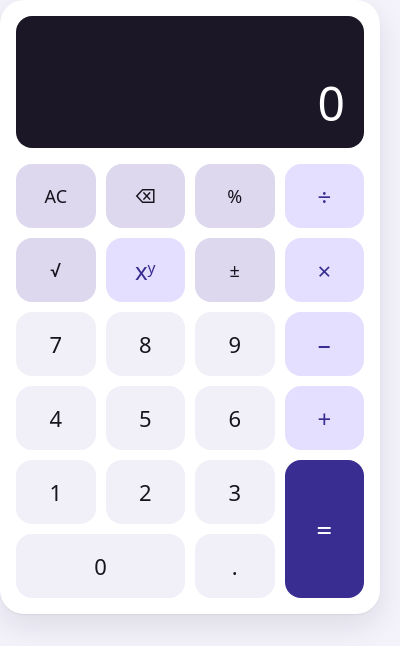
Test: <Calculator /> › evaluates an expression through the API
Click the button "1" at (56, 492), box [16,460,96,524]
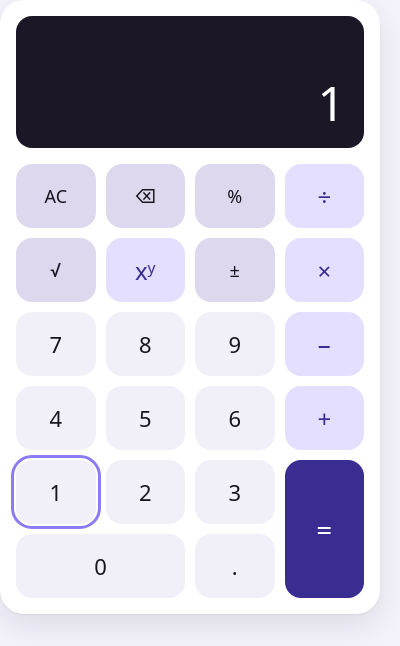
Click the button "2" at (145, 492), box [106,460,185,524]
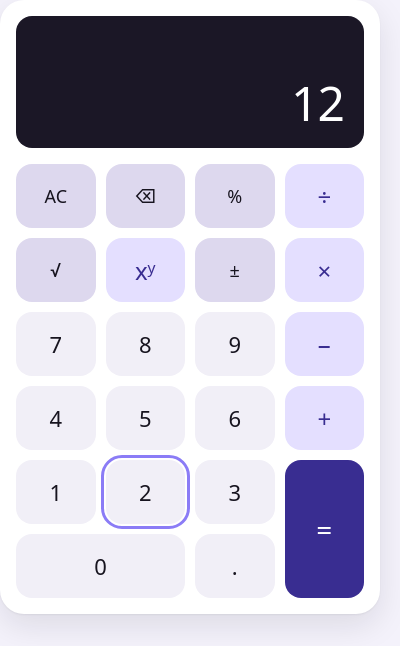
Click the button named "Add" at (324, 418), box [284,386,364,450]
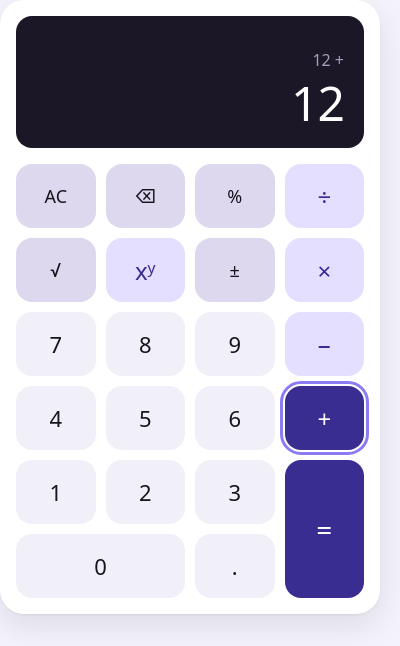
Click the button "3" at (235, 492), box [195,460,274,524]
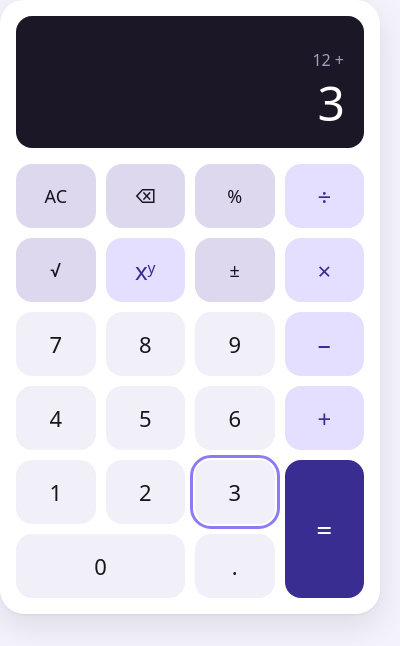
Click the button named "Equals" at (324, 529), box [284,460,364,598]
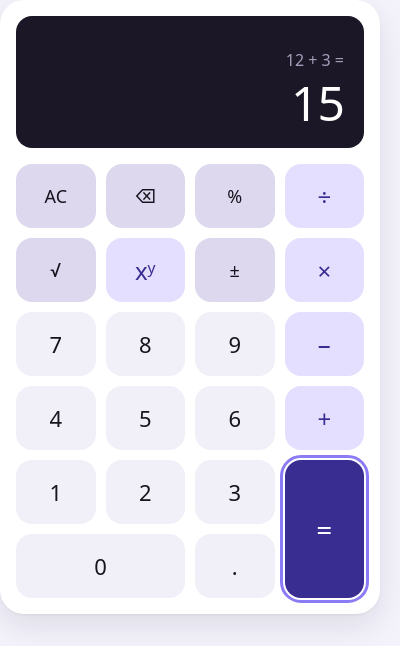
Check: the text with test id "display-value" reads "15", box [291,70,344,135]
Check: the text with test id "expression" reads "12 + 3 =", box [286,49,344,71]
